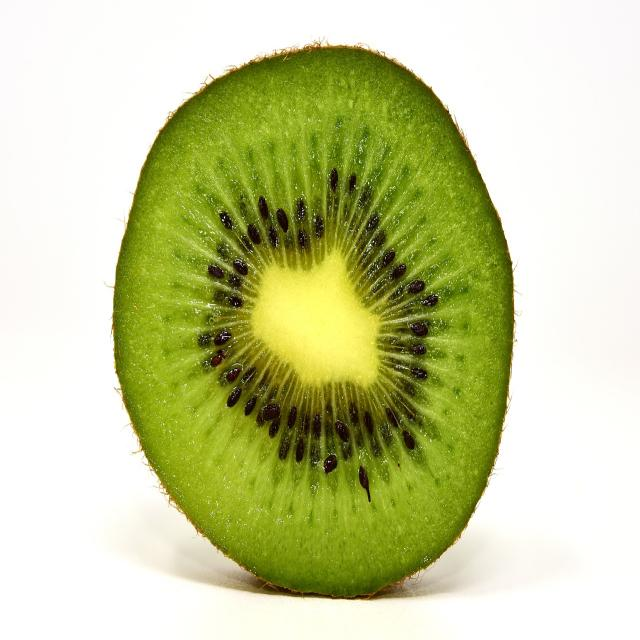Qiwi: (143, 63, 506, 598)
